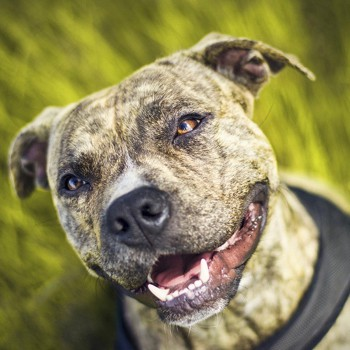am_pit_bull_terrier: (8, 32, 350, 350)
